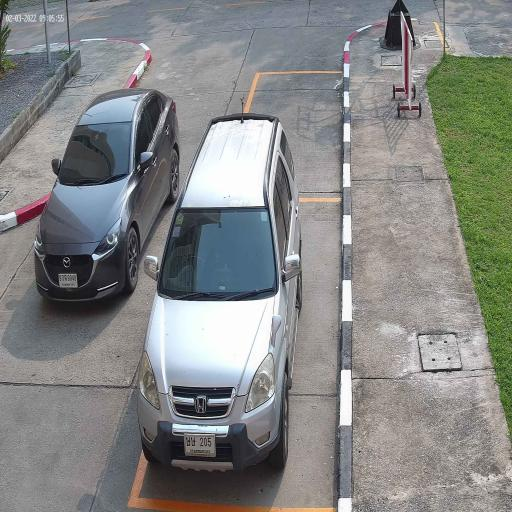car: (136, 112, 303, 480), (33, 88, 182, 305)
